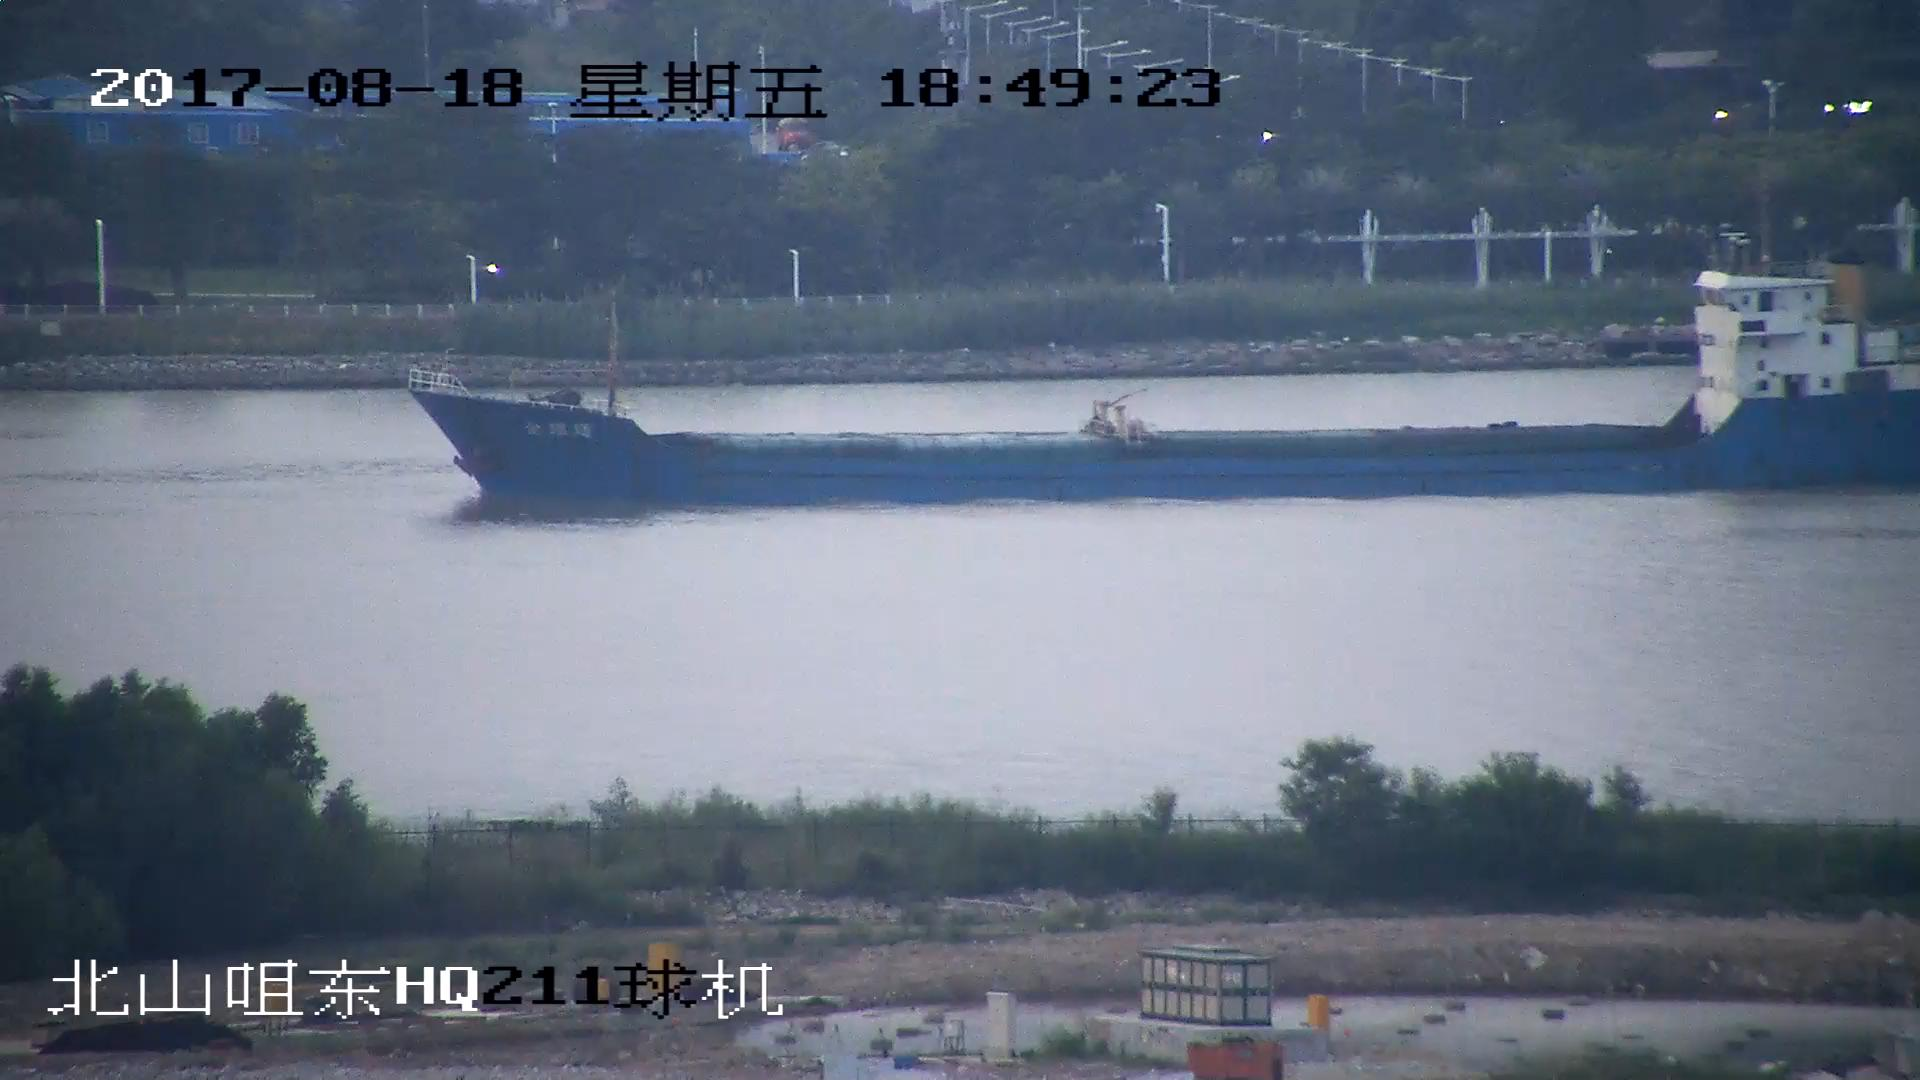general cargo ship: (407, 271, 1920, 504)
